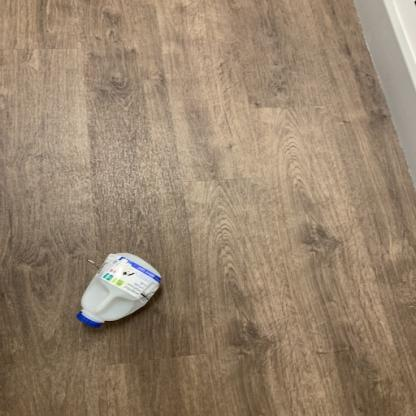trash: (68, 250, 167, 332)
